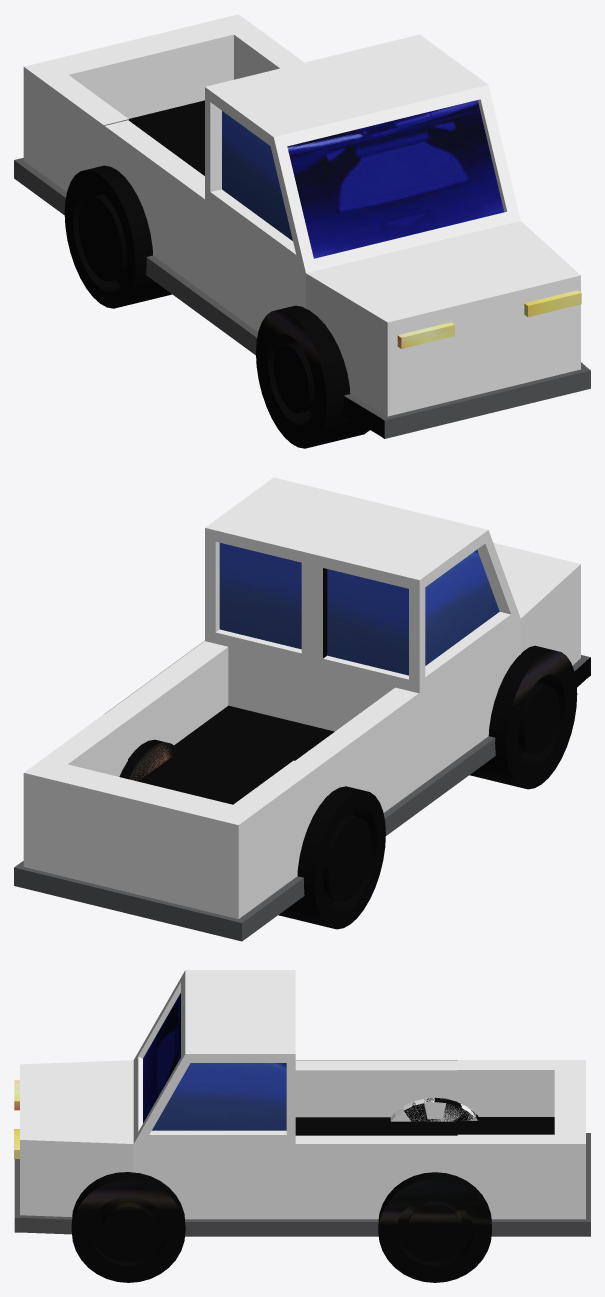
The model's file is truck_whiteglb.glb.
3 renders of one model, top to bottom at view 1: azimuth 30°, elevation 25°; view 2: azimuth 150°, elevation 25°; view 3: azimuth 270°, elevation 25°, orthographic. The views are drawn at different scales.
Parts seen in each view (by area): view 1: Cylinder.002; view 2: Cylinder.002; view 3: Cylinder.002.
Part boxes in pixels (x1,y1,x2,y2): Cylinder.002: [14, 14, 590, 448]; Cylinder.002: [14, 477, 590, 941]; Cylinder.002: [14, 970, 590, 1282].
Bounding box in the file's own units: 2.36 × 2.46 × 5.81.
Materials: 1 (1 with a texture image).
